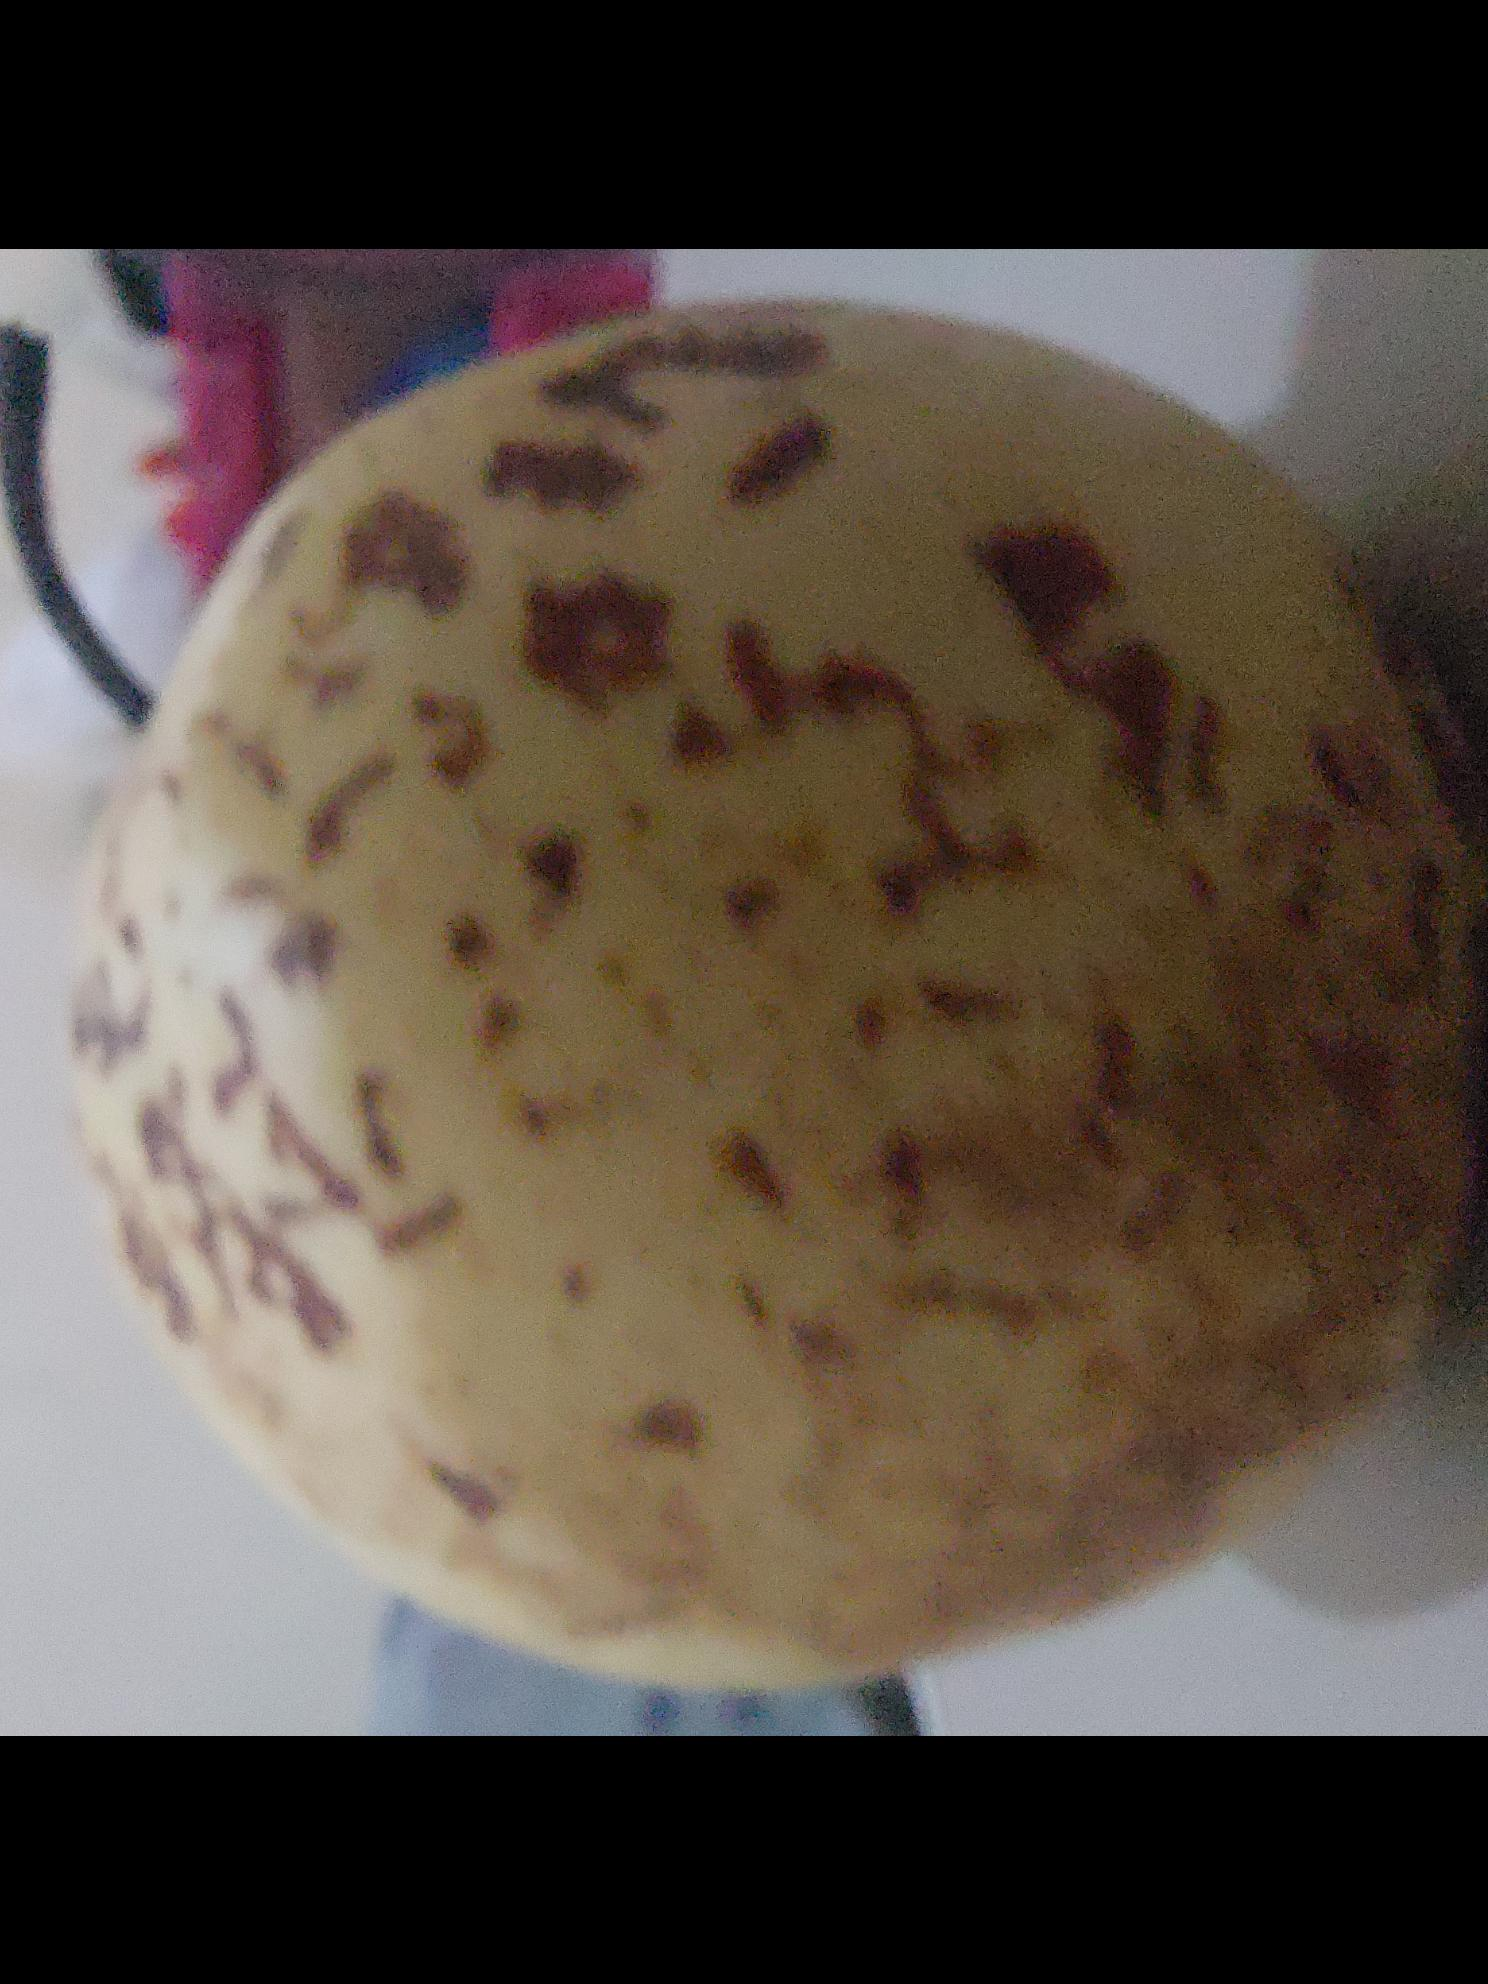Bad Pear: (66, 309, 1488, 1689)
